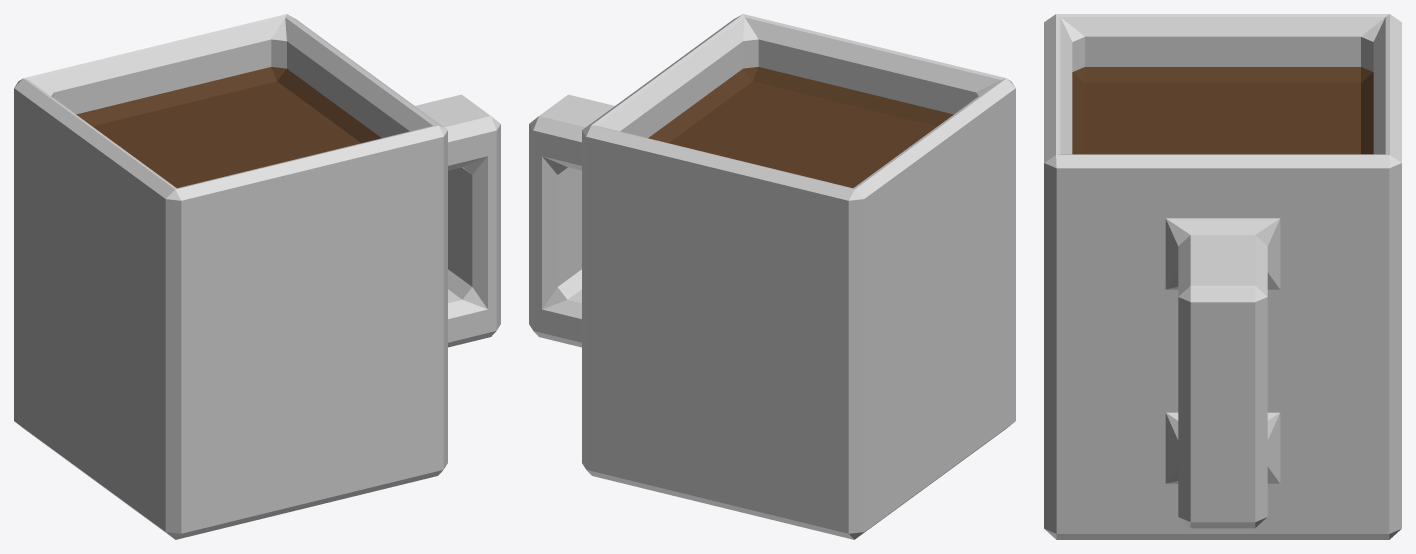
The model's file is coffee.glb.
3 renders of one model, left to right at view 1: azimuth 30°, elevation 25°; view 2: azimuth 150°, elevation 25°; view 3: azimuth 270°, elevation 25°, orthographic. The views are drawn at different scales.
Visible parts, largest first — view 1: coffee; view 2: coffee; view 3: coffee.
Part boxes in pixels (box(x1,y1,x2,y2)): coffee: box(14, 14, 500, 539); coffee: box(529, 14, 1015, 539); coffee: box(1044, 14, 1401, 539).
Size of the model in its own units: 0.3015 by 0.2549 by 0.2147.
